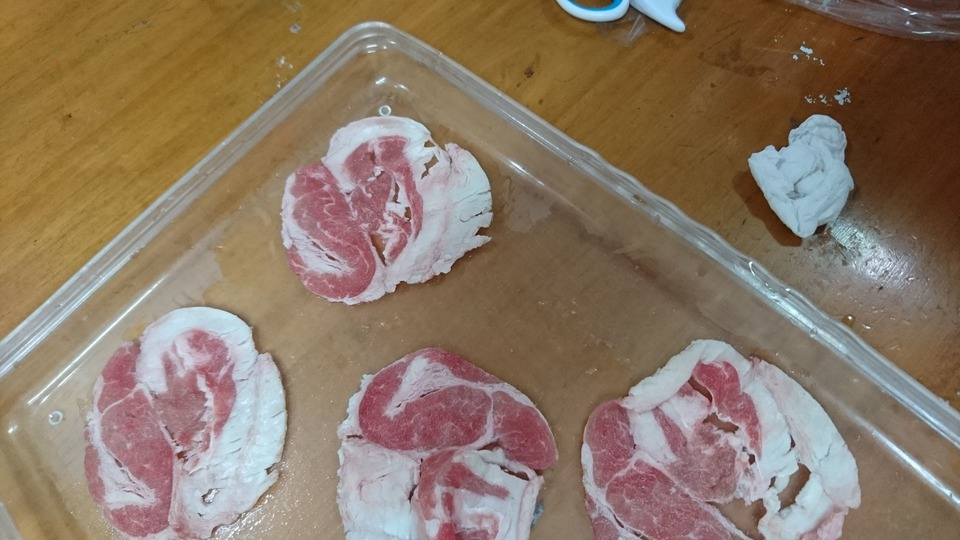restructured meat: (580, 341, 867, 540), (83, 302, 290, 540), (333, 341, 556, 540), (285, 111, 494, 305)
